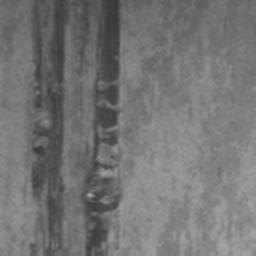Slag inclusion: (29, 0, 125, 256)
